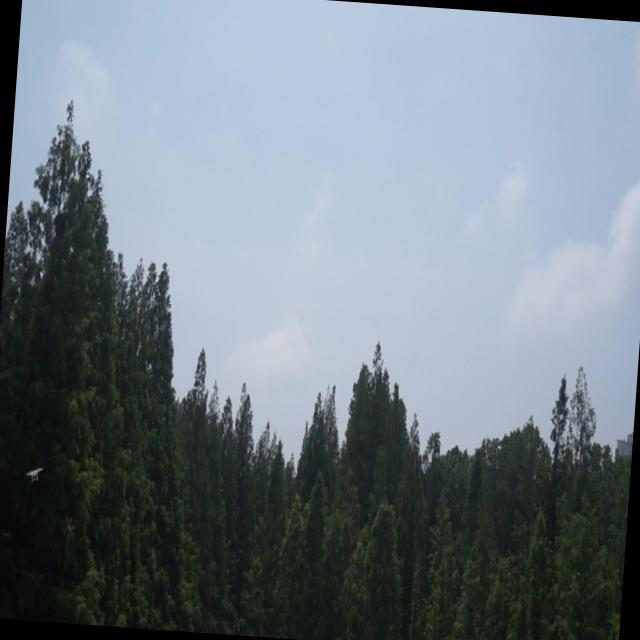drone: (21, 462, 46, 488)
